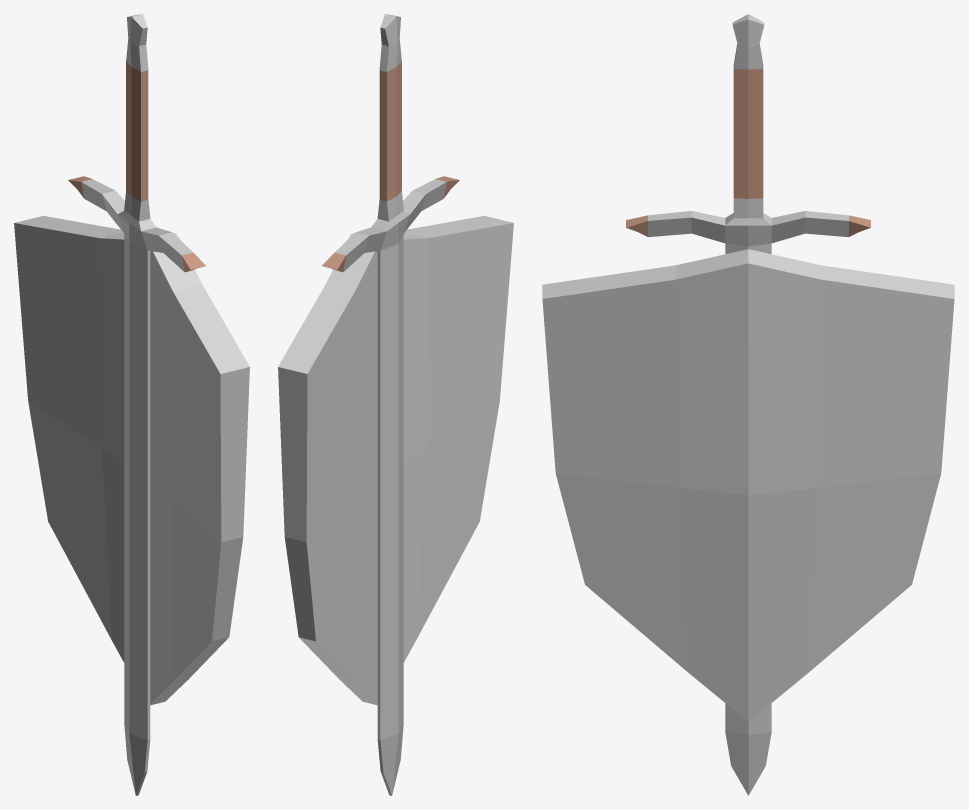
The model's file is PowerUp Defense.fbx.
3 views of the same model, side by side, from view 1: azimuth 30°, elevation 25°; view 2: azimuth 150°, elevation 25°; view 3: azimuth 270°, elevation 25° (orthographic).
Visible parts, largest first — view 1: Escudo, EspadaAbajo; view 2: Escudo, EspadaAbajo; view 3: Escudo, EspadaAbajo.
Part boxes in pixels (x1=…): Escudo: x1=14, y1=216, x2=249, y2=705; EspadaAbajo: x1=68, y1=14, x2=205, y2=795; Escudo: x1=278, y1=216, x2=513, y2=705; EspadaAbajo: x1=322, y1=14, x2=459, y2=795; Escudo: x1=542, y1=249, x2=954, y2=721; EspadaAbajo: x1=626, y1=14, x2=870, y2=795.
Size of the model in its own units: 57.54 by 720 by 345.
